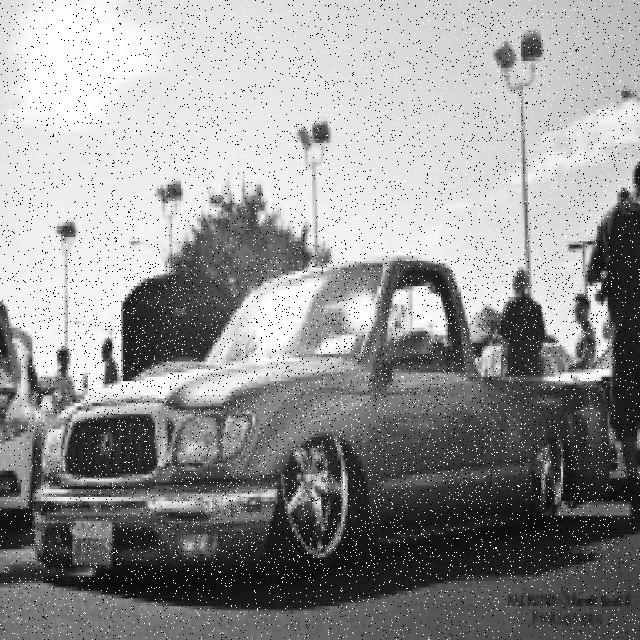Pickup: (30, 258, 615, 579)
